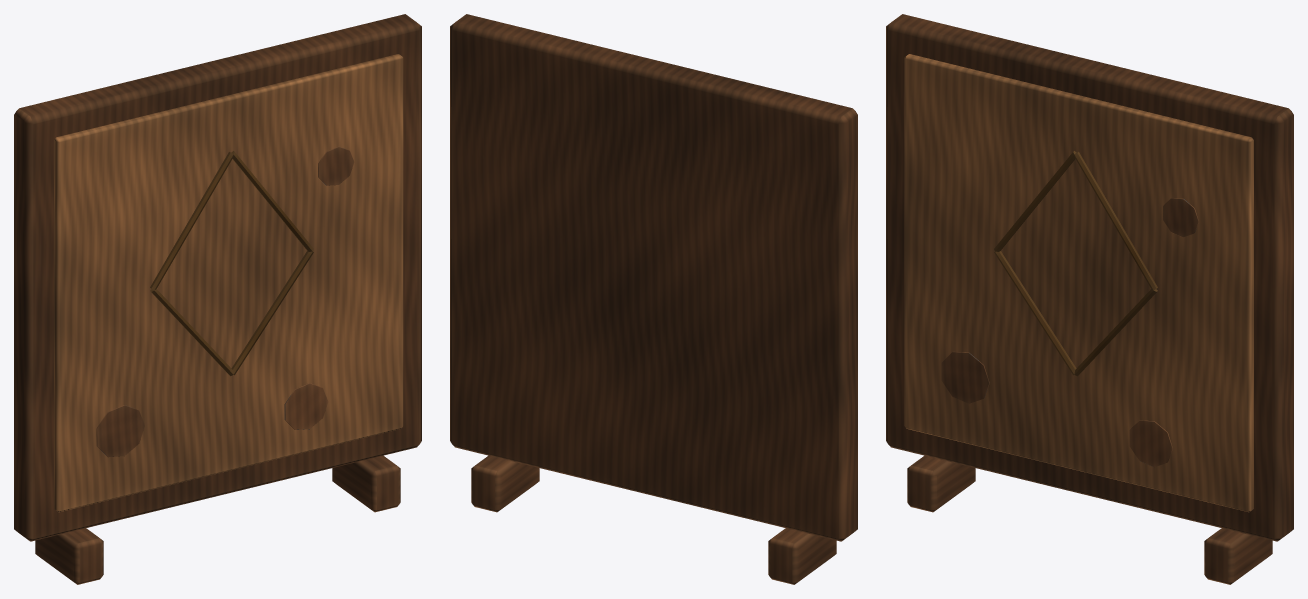
File: Furn_MagicLab_Shield.fbx
3 views of the same model, side by side, from view 1: azimuth 30°, elevation 25°; view 2: azimuth 150°, elevation 25°; view 3: azimuth 330°, elevation 25° (orthographic).
Visible parts, largest first — view 1: Furn_MagicLab_Shield; view 2: Furn_MagicLab_Shield; view 3: Furn_MagicLab_Shield.
Boxes of the visible parts, x1,y1,x2,y2 form: Furn_MagicLab_Shield: [14, 14, 421, 584]; Furn_MagicLab_Shield: [450, 14, 857, 584]; Furn_MagicLab_Shield: [886, 14, 1293, 584].
Bounding box in the file's own units: 1.6 × 1.8 × 0.3.
3 materials, 3 textured.
